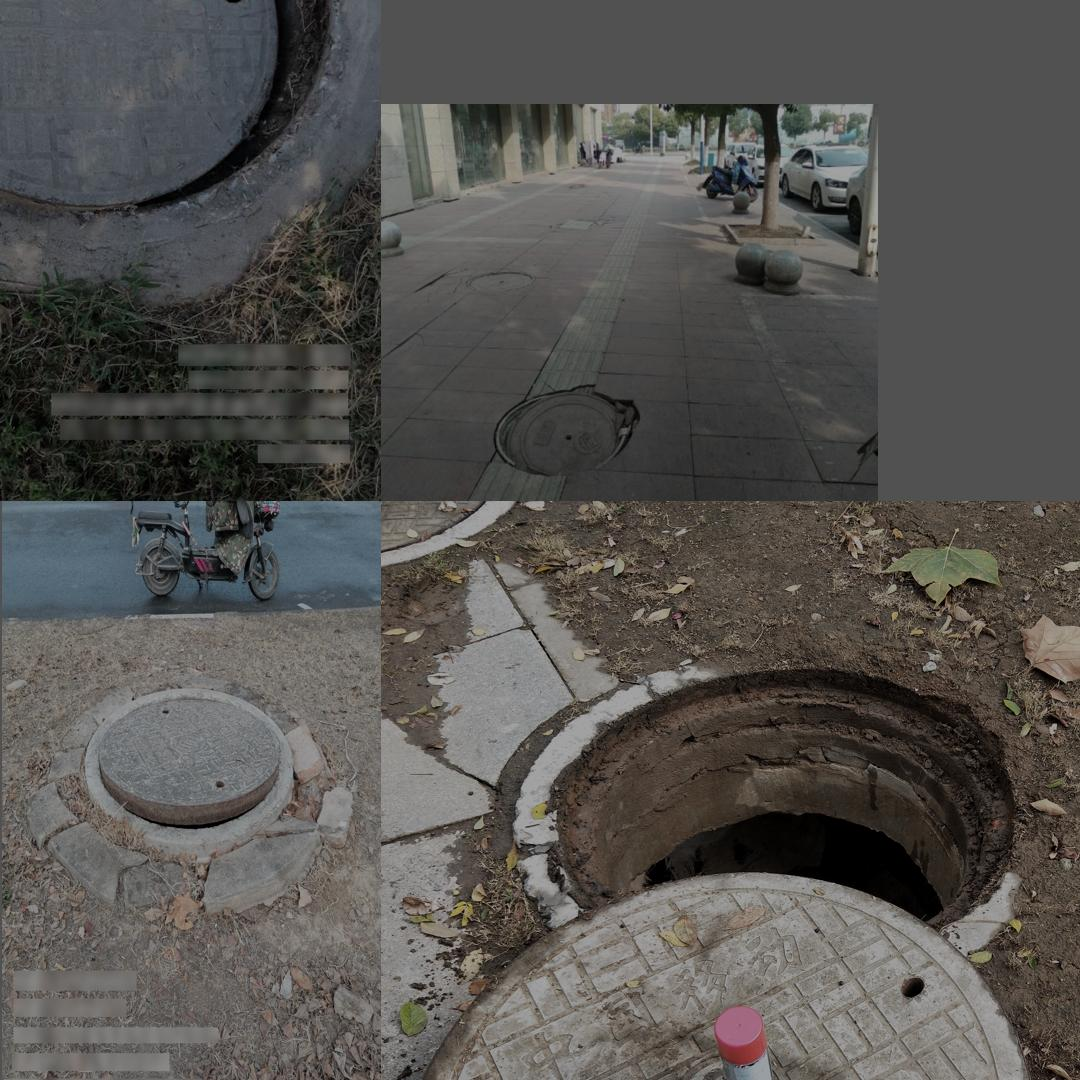good: (465, 270, 534, 288)
uncovered: (401, 660, 1034, 1080), (0, 0, 346, 237), (84, 685, 292, 856), (494, 391, 635, 477)
